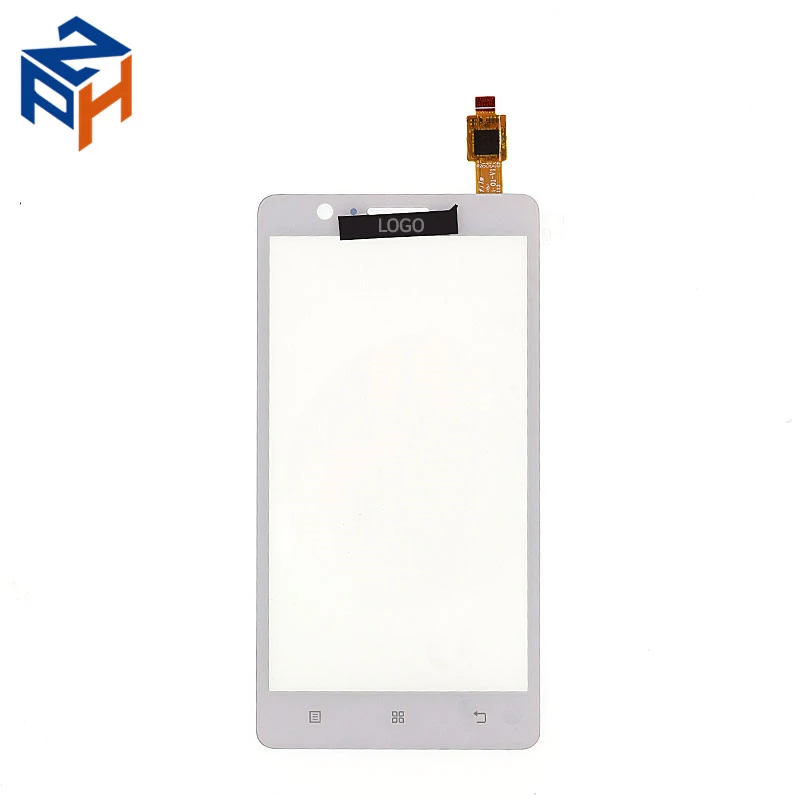phone: (246, 180, 550, 756)
